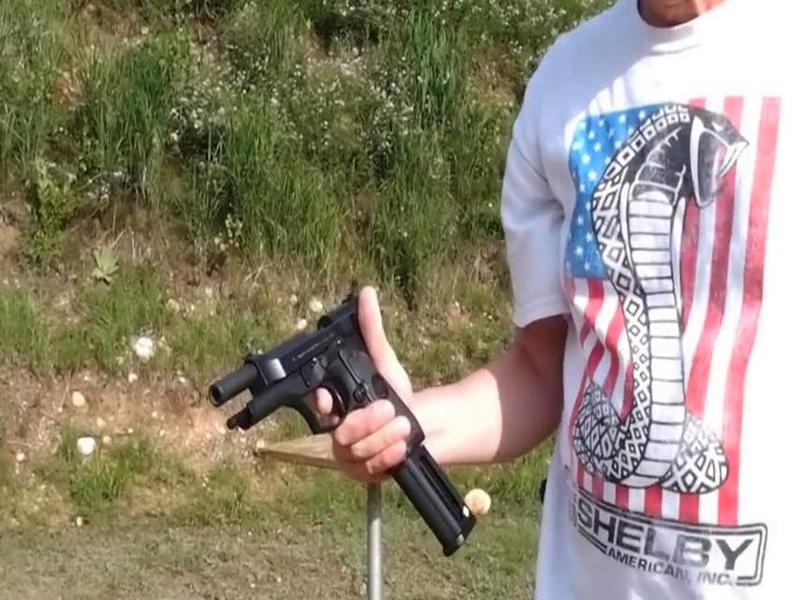Pistola: (190, 282, 446, 464)
